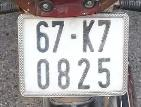0: (34, 54, 50, 88)
2: (76, 57, 91, 89)
5: (96, 57, 113, 87)
6: (36, 20, 51, 52)
7: (95, 19, 113, 53), (50, 19, 65, 53)
8: (56, 56, 71, 89)
K: (81, 19, 95, 53)
